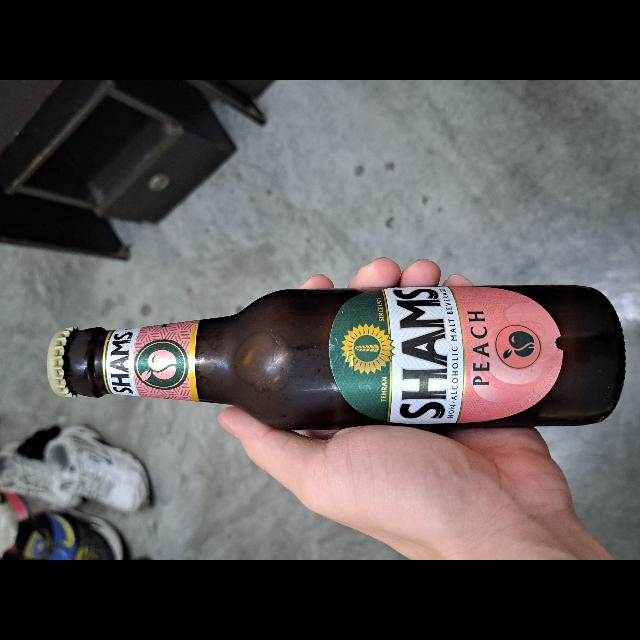garrafa de vidro: (46, 284, 628, 432)
